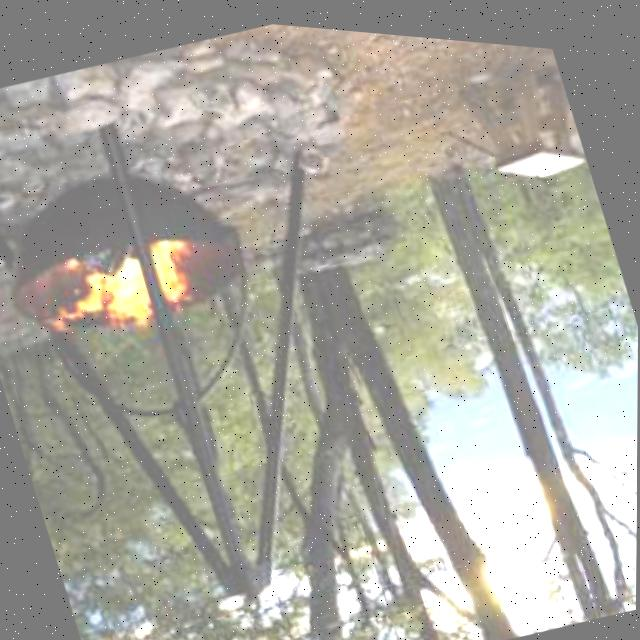Fire: (55, 206, 214, 362)
